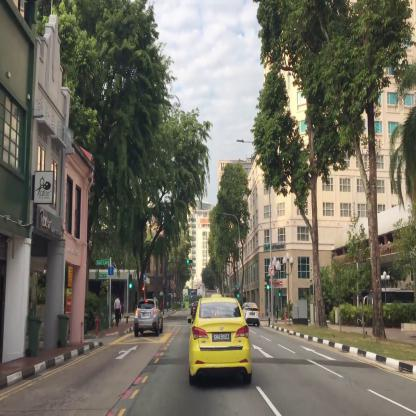green_traffic_light: (128, 275, 132, 288), (266, 276, 270, 288), (187, 260, 192, 262), (237, 290, 238, 296)
